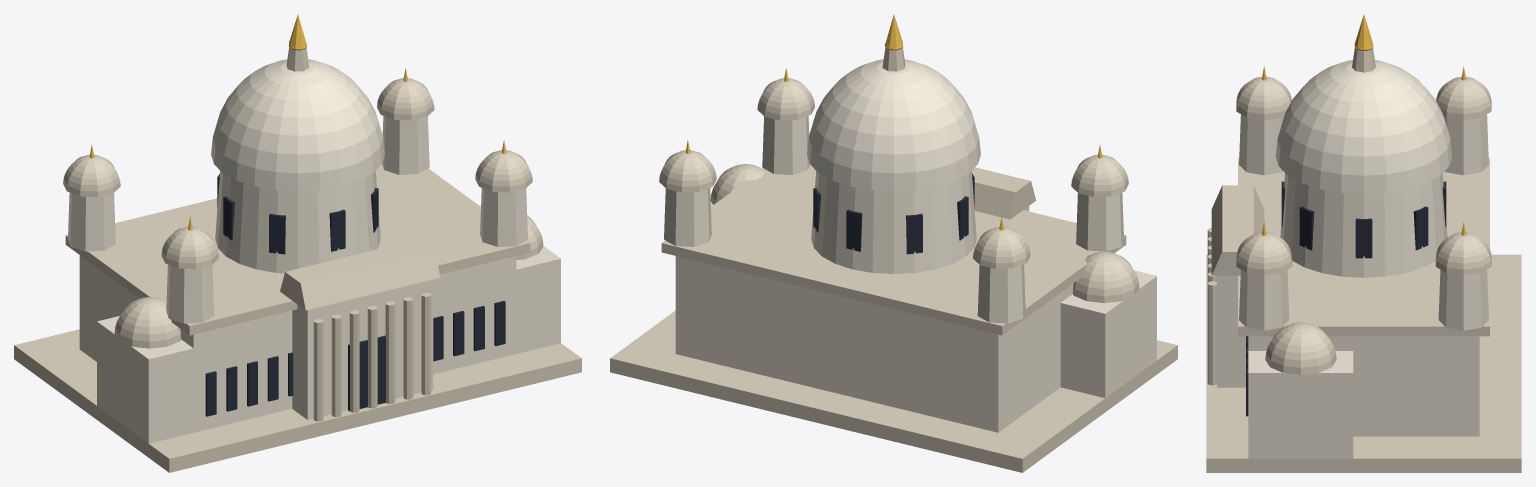
The model's file is victoria-memorial.glb.
3 renders of one model, left to right at view 1: azimuth 30°, elevation 25°; view 2: azimuth 150°, elevation 25°; view 3: azimuth 270°, elevation 25°, orthographic.
Parts seen in each view (by area): view 1: victoria-memorial; view 2: victoria-memorial; view 3: victoria-memorial.
Part boxes in pixels (<box>): victoria-memorial: <box>14,15,581,472</box>; victoria-memorial: <box>610,15,1177,472</box>; victoria-memorial: <box>1206,15,1521,472</box>.
Bounding box in the file's own units: 4.99 × 4 × 3.2.
